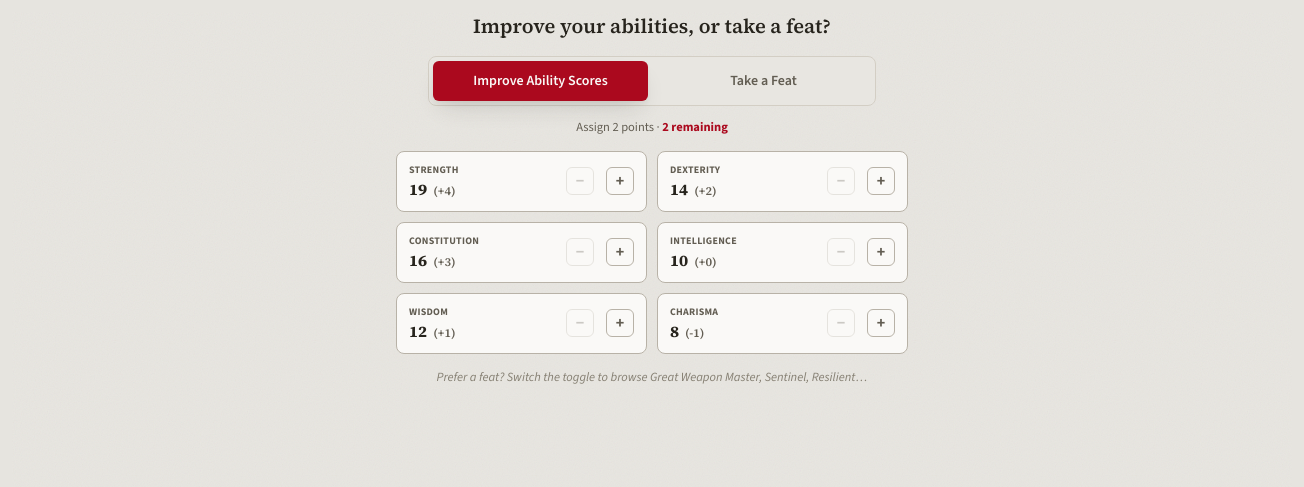
Scenario: AbilityScoreStep — scaffold + branch toggle › swaps to the feat body and clears any staged advancement when switching
This screenshot has width=1304, height=487.
Step 1. Click the button "Take a Feat" → (764, 81), box [656,61,871,101]
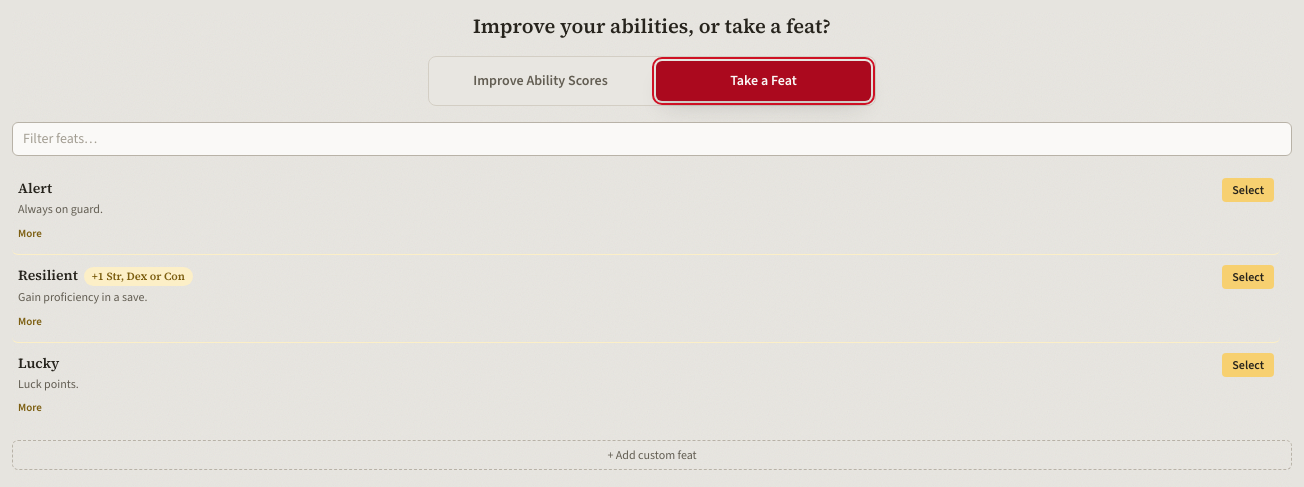
Expected: the search field with placeholder "Filter feats…" is shown, [12,122,1292,156]
